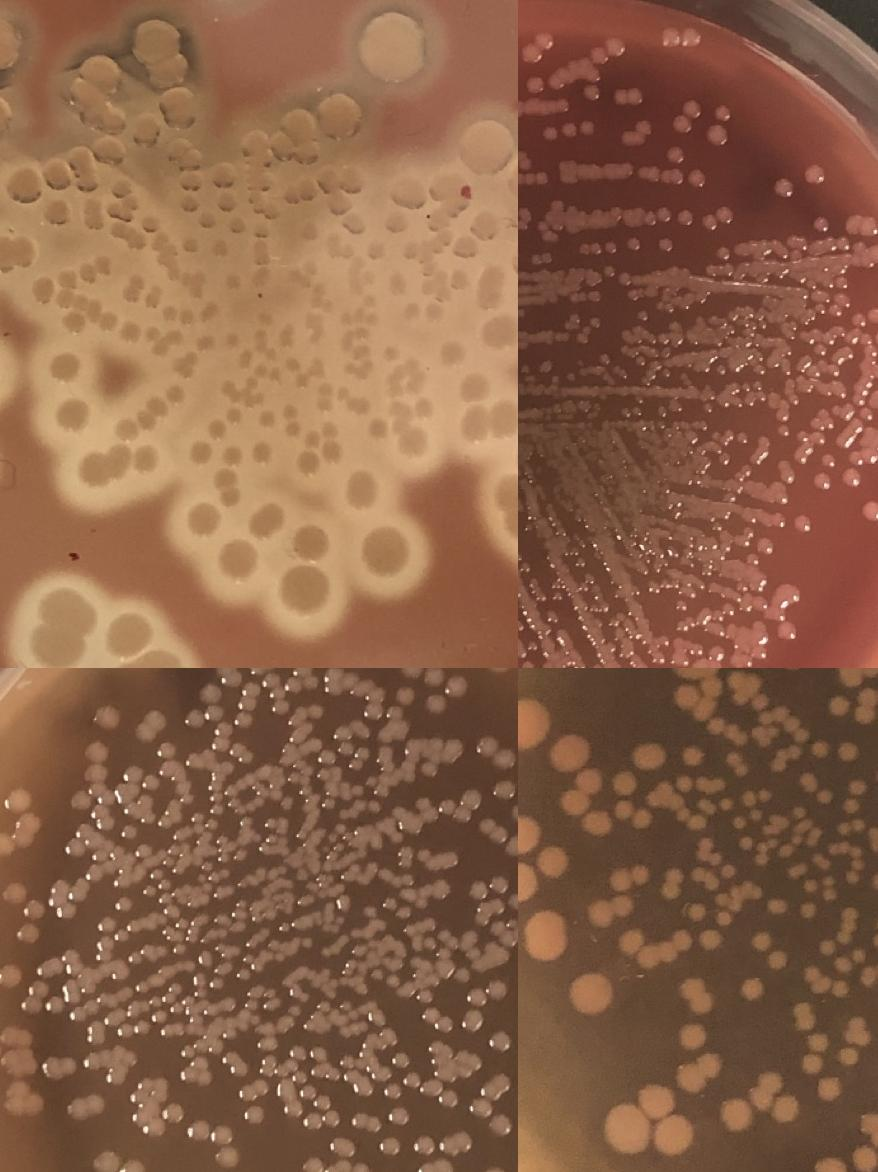pddamselae: (548, 730, 612, 838), (454, 114, 518, 207), (362, 14, 422, 78), (27, 612, 89, 668), (618, 928, 693, 970), (562, 967, 620, 1020), (611, 767, 654, 830), (278, 567, 330, 614), (361, 528, 411, 576), (318, 93, 360, 138), (518, 698, 553, 752), (81, 55, 121, 96), (586, 895, 635, 928), (218, 540, 258, 580), (53, 392, 93, 432), (111, 614, 150, 654), (209, 160, 239, 212), (341, 471, 379, 510), (290, 523, 328, 561), (182, 502, 220, 540), (76, 451, 114, 489), (279, 108, 315, 144), (718, 1096, 754, 1132), (607, 864, 653, 892), (487, 398, 518, 438), (536, 842, 570, 878), (0, 13, 20, 74), (750, 710, 780, 750), (0, 235, 34, 270), (630, 742, 667, 774), (8, 168, 40, 201), (853, 685, 878, 727), (814, 1073, 846, 1105), (676, 1020, 708, 1052), (518, 813, 541, 857), (842, 778, 869, 814), (256, 501, 286, 532), (42, 158, 72, 188), (130, 116, 160, 146), (858, 942, 878, 987), (518, 860, 538, 905), (494, 475, 518, 512), (42, 198, 72, 227), (849, 1143, 878, 1172), (51, 352, 81, 380), (738, 975, 766, 1002), (724, 750, 750, 778), (680, 742, 706, 770), (699, 928, 726, 954), (687, 991, 715, 1015), (834, 740, 860, 765), (844, 857, 867, 885), (834, 817, 866, 837), (813, 1155, 848, 1172), (296, 451, 320, 475), (453, 236, 477, 260), (381, 209, 405, 233), (314, 168, 338, 192), (800, 1052, 824, 1076), (827, 694, 851, 718), (820, 874, 838, 905), (322, 440, 346, 463), (115, 418, 138, 442), (164, 380, 187, 404), (447, 267, 470, 291), (342, 169, 366, 192), (767, 949, 790, 973), (326, 192, 349, 215), (189, 440, 213, 462), (751, 928, 773, 952), (658, 880, 682, 902), (810, 738, 832, 760), (0, 94, 9, 140), (836, 1048, 858, 1066), (831, 980, 851, 998), (814, 789, 834, 807), (800, 902, 818, 920), (802, 877, 820, 895), (867, 825, 878, 854), (850, 948, 868, 965), (818, 939, 836, 956), (714, 912, 732, 928), (737, 836, 753, 850), (732, 816, 748, 830), (748, 808, 764, 822), (790, 806, 806, 820), (718, 796, 734, 810), (756, 788, 772, 802), (722, 864, 736, 879), (755, 842, 769, 856), (869, 872, 878, 892), (873, 913, 878, 933)
vangil: (843, 445, 878, 487), (674, 100, 701, 133), (518, 605, 542, 642), (745, 538, 774, 568), (523, 34, 553, 62), (700, 206, 734, 230), (621, 120, 652, 146), (602, 265, 632, 287), (845, 215, 878, 235), (577, 241, 618, 256), (614, 87, 645, 106), (802, 333, 826, 356), (654, 400, 683, 418), (778, 584, 798, 604), (812, 471, 832, 491), (776, 625, 796, 644), (792, 514, 812, 532), (706, 264, 736, 276), (848, 311, 867, 329), (681, 28, 700, 46), (555, 628, 572, 648), (812, 214, 830, 232), (655, 204, 673, 222), (775, 179, 793, 197), (708, 126, 726, 144), (607, 38, 625, 56), (862, 502, 878, 522), (518, 551, 532, 573), (736, 532, 752, 550), (780, 467, 796, 485), (530, 253, 554, 265), (716, 244, 732, 262), (688, 170, 704, 188), (668, 168, 684, 186), (806, 166, 822, 184), (662, 28, 678, 46), (518, 149, 531, 171), (542, 125, 558, 142), (714, 105, 730, 122), (528, 76, 544, 93), (645, 578, 661, 594), (658, 236, 674, 252), (625, 236, 641, 252), (678, 210, 694, 226), (583, 84, 599, 100), (655, 300, 673, 314), (650, 651, 666, 666), (710, 646, 726, 661), (656, 633, 672, 648), (672, 599, 688, 614), (668, 147, 684, 162), (751, 596, 767, 610), (580, 122, 596, 136), (560, 122, 576, 136), (826, 364, 840, 378), (753, 364, 767, 378), (636, 308, 650, 322), (592, 48, 606, 62), (701, 401, 715, 414), (834, 386, 848, 399), (841, 346, 855, 359), (718, 454, 732, 466), (777, 424, 791, 436), (775, 410, 789, 422), (766, 357, 780, 369), (575, 332, 589, 344), (588, 290, 600, 304), (535, 220, 549, 232), (551, 198, 565, 210), (589, 316, 602, 328), (568, 312, 581, 324), (738, 432, 750, 444), (872, 244, 878, 263), (633, 661, 649, 668), (518, 101, 522, 116), (518, 570, 522, 583), (518, 538, 521, 550)
vharveyi: (183, 678, 260, 755), (397, 668, 471, 715), (188, 1119, 241, 1172), (461, 978, 508, 1034), (420, 1129, 476, 1172), (0, 1042, 60, 1080), (468, 1072, 512, 1120), (404, 1070, 457, 1108), (298, 1082, 338, 1132), (0, 879, 46, 920), (438, 788, 484, 825), (82, 739, 112, 790), (476, 735, 518, 771), (239, 1076, 268, 1126), (257, 668, 314, 693), (466, 872, 510, 903), (134, 708, 167, 746), (180, 1054, 215, 1088), (374, 1062, 401, 1102), (122, 765, 159, 792), (0, 827, 35, 855), (284, 668, 320, 695), (277, 1081, 301, 1119), (222, 1048, 251, 1078), (489, 919, 518, 948), (423, 1006, 453, 1034), (70, 1094, 104, 1118), (479, 817, 507, 845), (2, 788, 30, 816), (93, 705, 121, 732), (351, 1112, 383, 1134), (0, 1026, 33, 1046), (0, 962, 23, 990), (92, 1150, 120, 1172), (205, 803, 226, 831), (378, 1134, 402, 1158), (412, 1134, 436, 1158), (161, 1102, 185, 1126), (493, 778, 517, 802), (490, 1115, 514, 1137), (394, 685, 418, 707), (488, 1030, 511, 1052), (218, 668, 240, 689), (120, 822, 138, 843), (388, 1106, 406, 1126), (326, 1063, 344, 1083), (62, 1056, 80, 1076), (392, 1050, 410, 1070), (309, 1044, 327, 1064), (289, 1042, 307, 1062), (259, 1034, 277, 1054), (454, 966, 472, 986), (196, 949, 214, 969), (98, 916, 116, 936), (115, 896, 133, 916), (400, 884, 418, 904), (403, 814, 421, 834), (318, 748, 336, 768), (334, 724, 352, 744), (339, 1161, 371, 1172), (432, 878, 450, 897), (337, 1140, 355, 1158), (355, 1080, 373, 1098), (88, 1030, 106, 1048), (62, 948, 80, 966), (414, 846, 432, 864), (108, 1068, 124, 1088), (440, 1063, 456, 1083), (466, 1050, 482, 1070), (274, 698, 290, 718), (84, 1052, 101, 1070), (446, 737, 462, 756), (209, 974, 225, 992), (507, 800, 518, 824), (464, 945, 481, 960), (435, 948, 455, 960), (236, 967, 252, 981), (509, 832, 518, 852), (116, 1166, 144, 1172), (481, 1166, 509, 1172)
